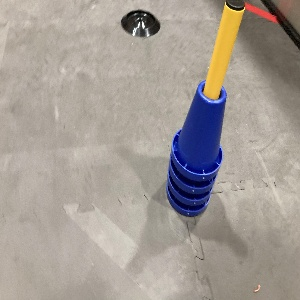Blue_4: (165, 69, 227, 223)
